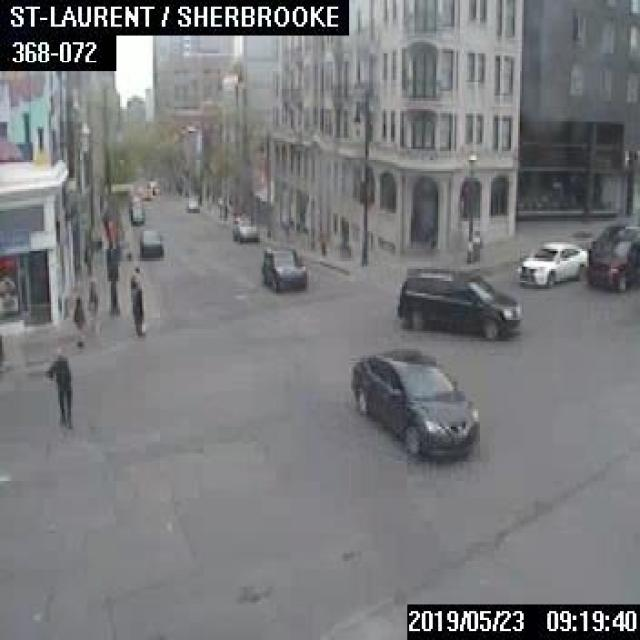pedestrian: (42, 352, 73, 426), (128, 265, 144, 335), (72, 297, 84, 344), (86, 278, 96, 332), (470, 228, 481, 260)
vehicle: (349, 348, 480, 451), (395, 266, 520, 337), (587, 224, 638, 290), (516, 240, 587, 286), (260, 245, 306, 289), (138, 228, 162, 255), (233, 214, 257, 240), (186, 193, 199, 211), (130, 206, 143, 223), (147, 180, 158, 193)
